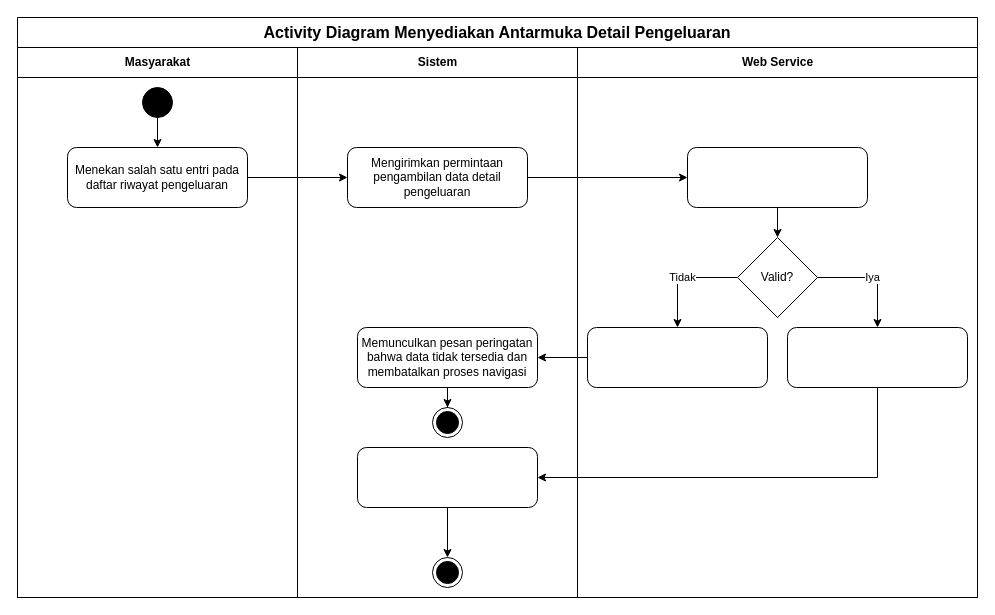
Image size: 995x615. Some labels were removed from this diagram. Each missing label, with the centre of its shape:
"Memvalidasi permintaan dan mengambil entitas pengeluaran" goes at point 777,177.
"menampilan antarmuka detail pengeluaran secara lengkap ke layar pengguna" goes at point 447,477.
"Mengembalikan respons data detail pengeluaran" goes at point 877,357.
"Web Service mengembalikan status error Not Found" goes at point 677,357.
